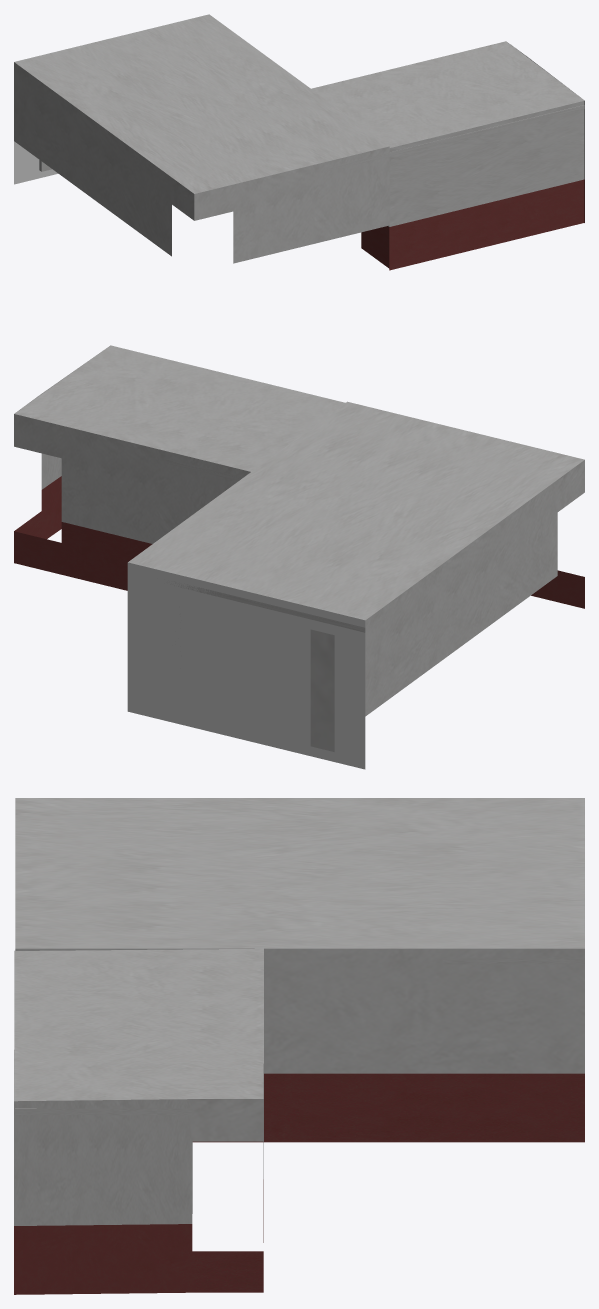
Rendered from Room.fbx.
3 renders of one model, top to bottom at view 1: azimuth 30°, elevation 25°; view 2: azimuth 150°, elevation 25°; view 3: azimuth 270°, elevation 25°, orthographic. The views are drawn at different scales.
Parts seen in each view (by area): view 1: Estructura; view 2: Estructura; view 3: Estructura.
Part boxes in pixels (x1,y1,x2,y2): Estructura: (14, 14, 584, 270); Estructura: (14, 345, 584, 769); Estructura: (14, 798, 584, 1294).
Bounding box in the file's own units: 1000 × 304 × 802.
